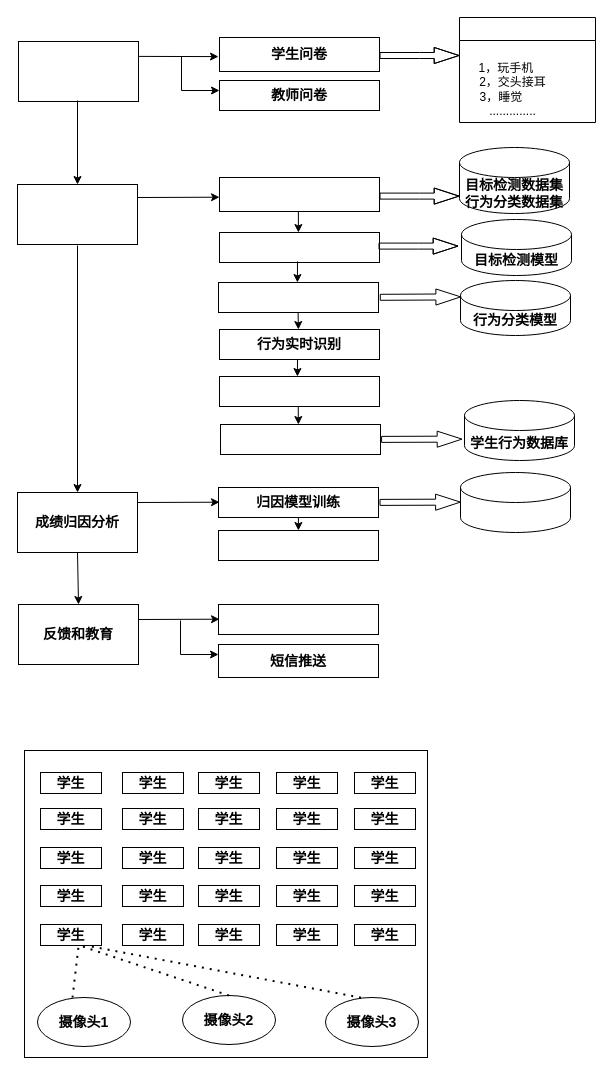
Some shapes in this 613 by 1075 pixel diagram are drawn without their labels. The shapes that lost their labels are listed below. From the top down, each one's box as (x1, y1, x2, y2) in pixels, then its label:
(18, 40, 138, 102): 课堂行为调研
(458, 16, 596, 122): 课堂行为分布
(16, 184, 138, 244): 课堂行为检测
(218, 176, 380, 212): 数据集构建
(218, 232, 380, 262): 目标检测模型训练
(218, 282, 378, 312): 行为分类模型训练
(218, 376, 380, 406): 人脸识别
(220, 424, 380, 454): 行为统计
(460, 472, 570, 532): 归因模型
(218, 530, 378, 560): 归因分析预测
(218, 604, 378, 634): 聊天机器人
